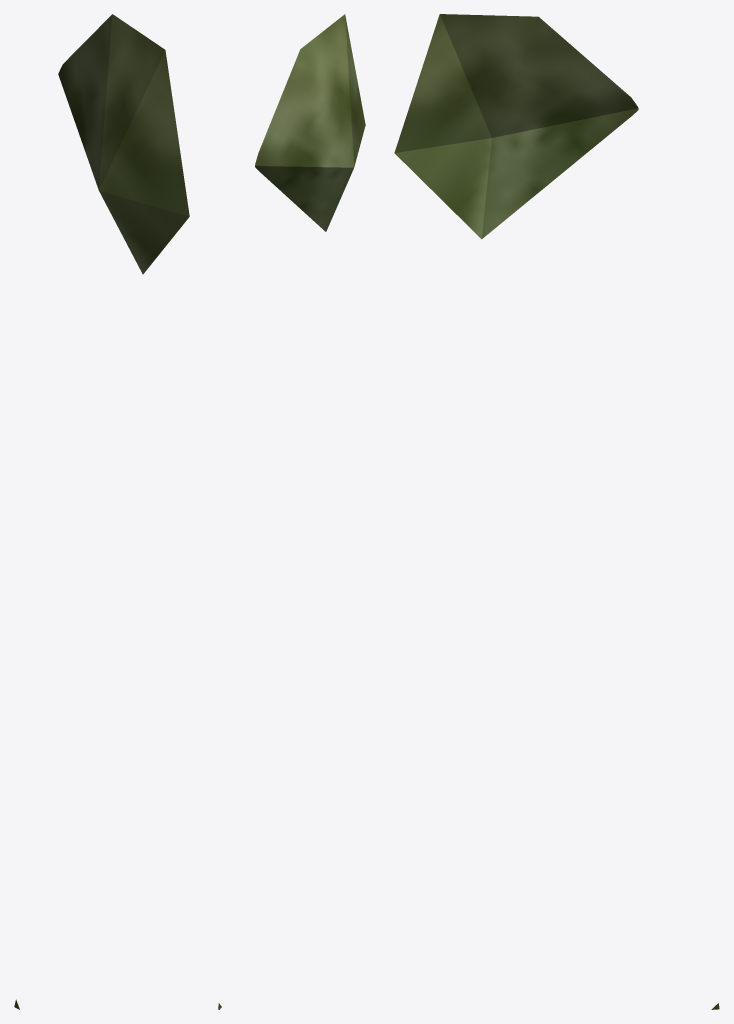
3 renders of one model, left to right at view 1: azimuth 30°, elevation 25°; view 2: azimuth 150°, elevation 25°; view 3: azimuth 270°, elevation 25°, orthographic. The views are drawn at different scales.
Bounding box in the file's own units: 0.0408 × 1.08 × 0.3183.
Materials: 1 (1 with a texture image).
